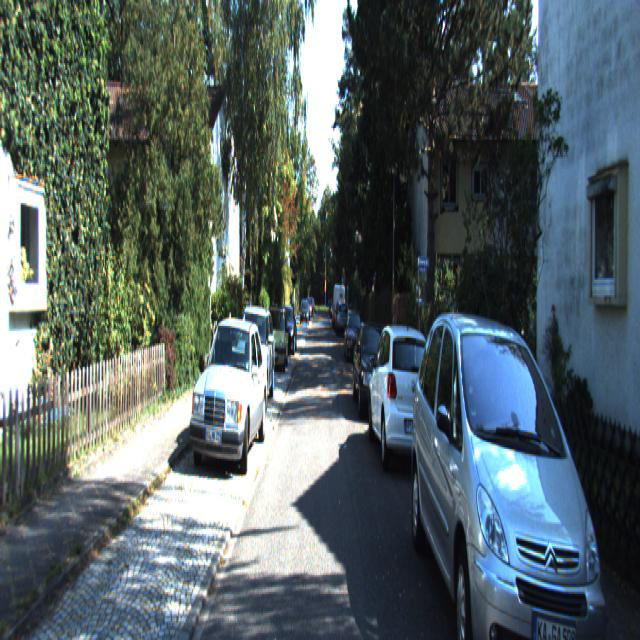Car: (412, 307, 623, 638), (189, 313, 268, 481), (366, 321, 438, 485), (351, 314, 398, 425), (229, 306, 275, 418), (264, 306, 288, 375), (344, 308, 366, 364), (334, 283, 346, 331), (336, 300, 349, 338)
